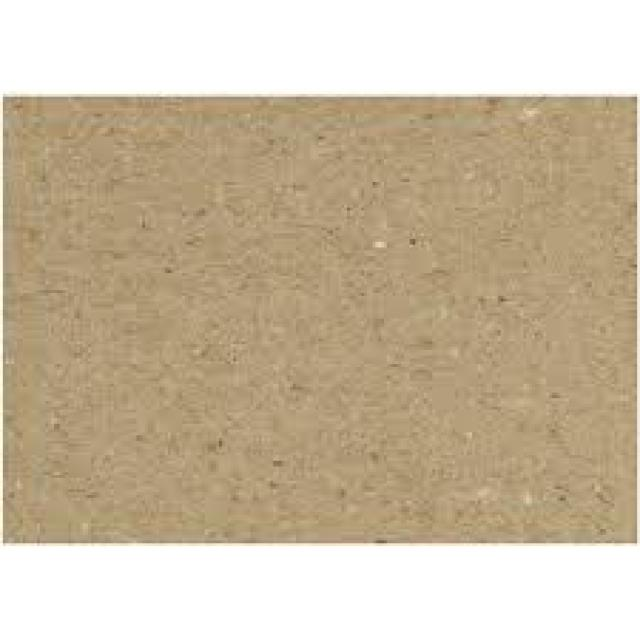cardboard: (0, 91, 637, 538)
